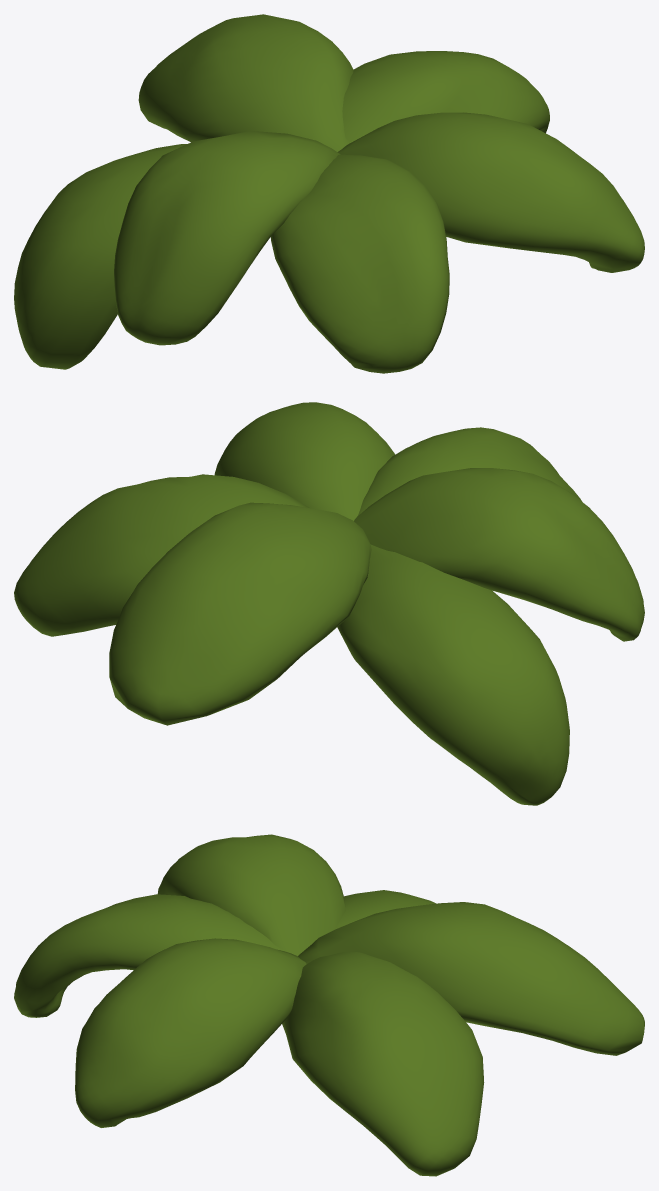
The model's file is Cespuglio verde.fbx.
The picture shows the model from 3 angles, top to bottom: view 1: azimuth 30°, elevation 25°; view 2: azimuth 150°, elevation 25°; view 3: azimuth 270°, elevation 25°; orthographic projection. The views are drawn at different scales.
Visible parts, largest first — view 1: cespuglio1; view 2: cespuglio1; view 3: cespuglio1.
Boxes of the visible parts, left/top/right/bottom form: cespuglio1: left=14, top=14, right=644, bottom=373; cespuglio1: left=14, top=402, right=644, bottom=805; cespuglio1: left=14, top=834, right=644, bottom=1176.
Size of the model in its own units: 289 by 128 by 308.
